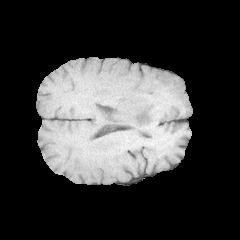glioma: (111, 89, 173, 126)
